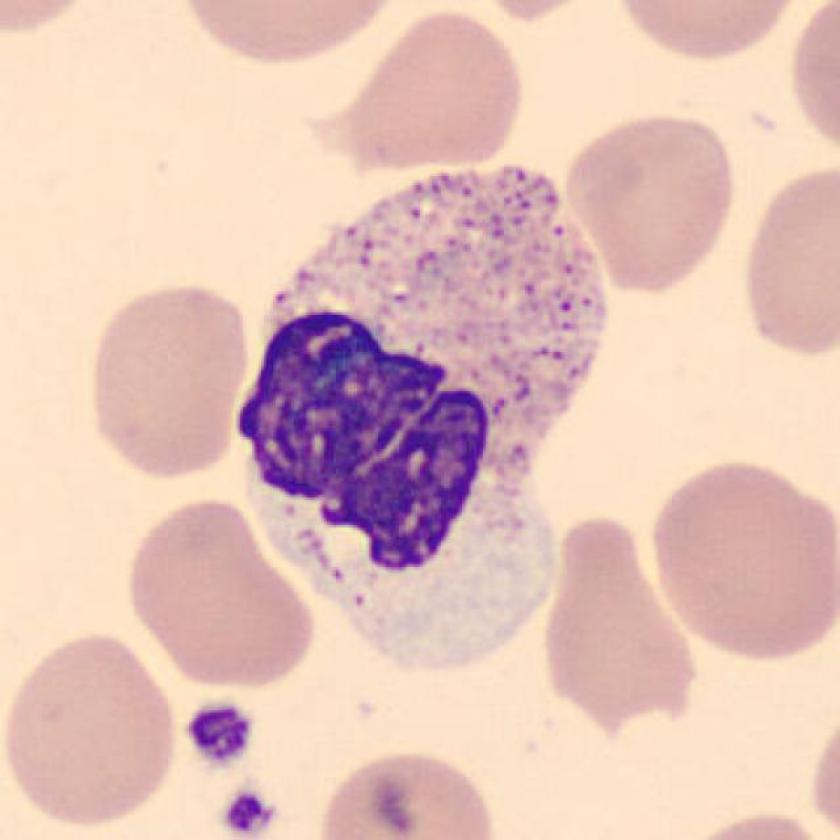neutrophil: (239, 165, 608, 667)
